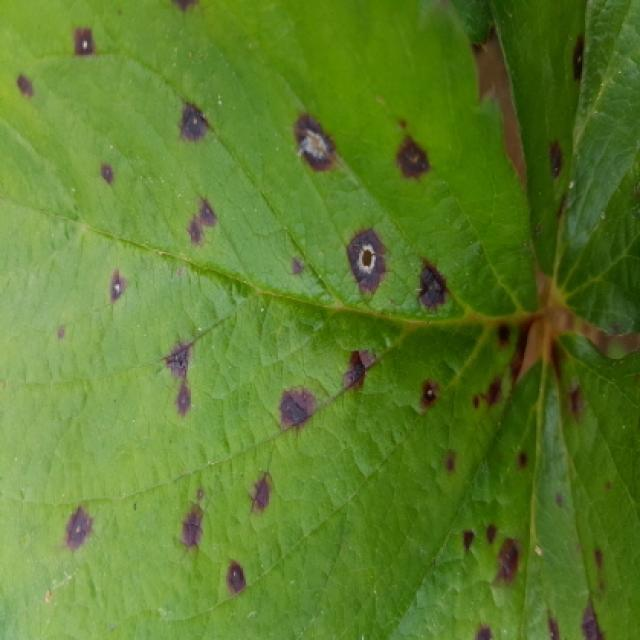Leaf Spot: (389, 333, 638, 638), (490, 0, 638, 338)
